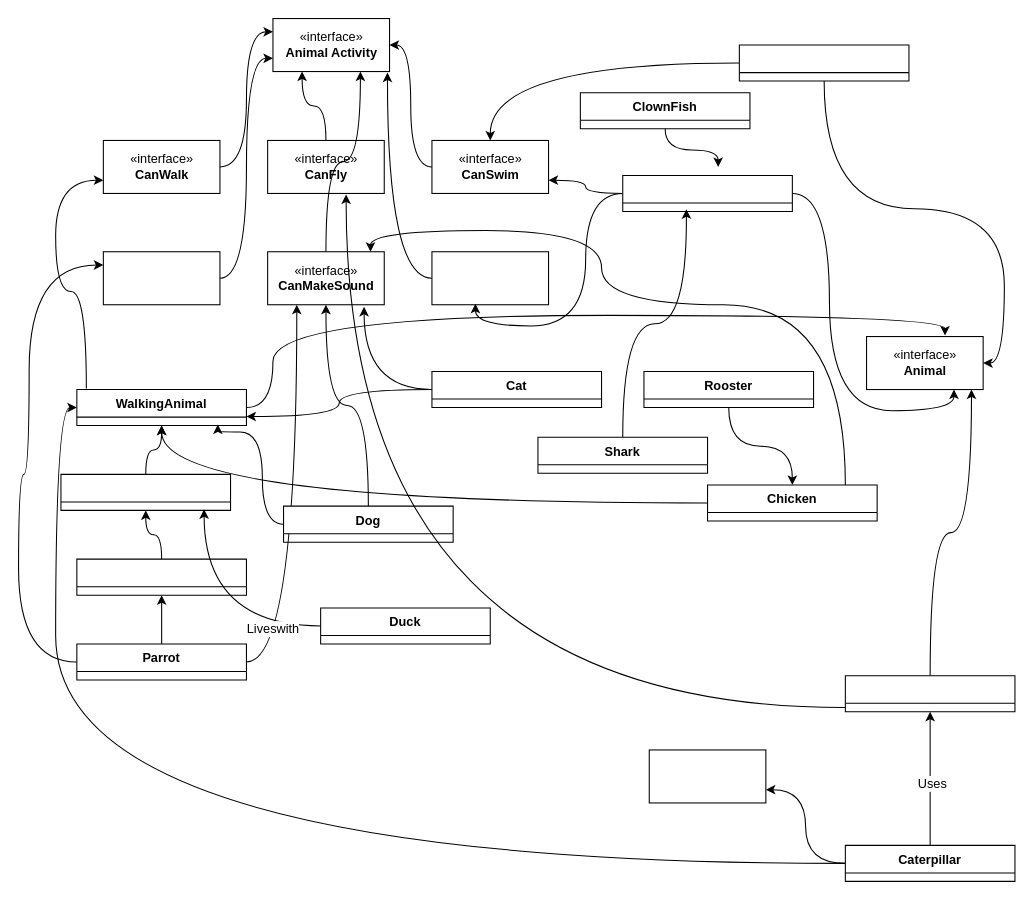
The diagram is 1034 pixels wide and 900 high, and some of its shapes have lost their labels. The shapes that lost their labels are listed below. From the top down, each one's box as (x1, y1, x2, y2) in pixels, then its label:
(738, 44, 909, 81): Dolphin
(622, 174, 792, 211): Fish
(102, 251, 220, 305): «interface» CanSing
(431, 251, 549, 305): «interface» FishAction
(60, 473, 231, 510): Bird
(76, 558, 246, 595): FlyingBird
(844, 675, 1015, 712): Butterfly
(648, 749, 766, 803): «interface» Transformable
